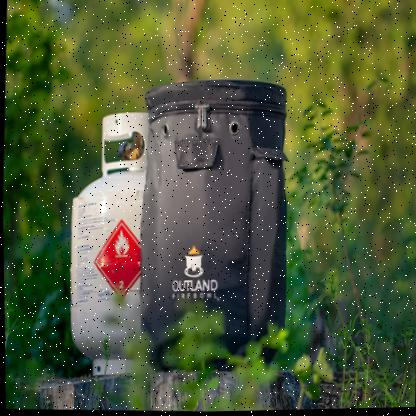gas-tank: (49, 89, 186, 403)
